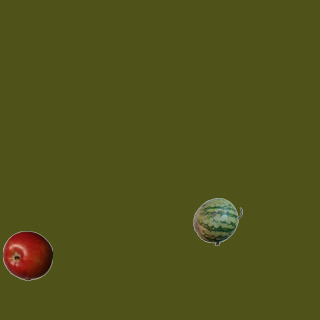Apple Braeburn: (2, 230, 52, 280)
Watermelon: (192, 196, 242, 246)
